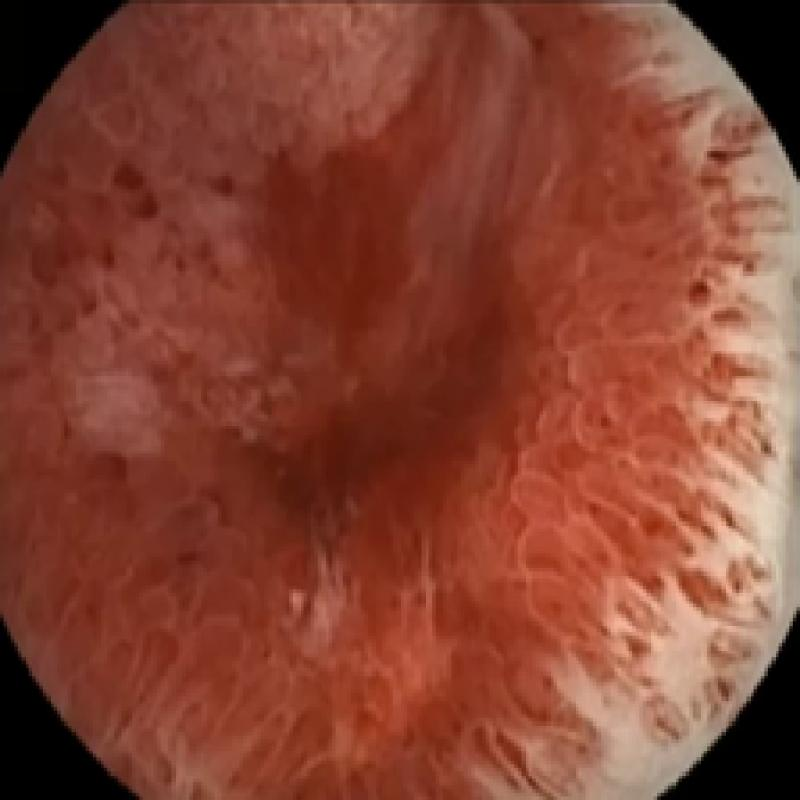bleeding: (0, 0, 761, 800)
